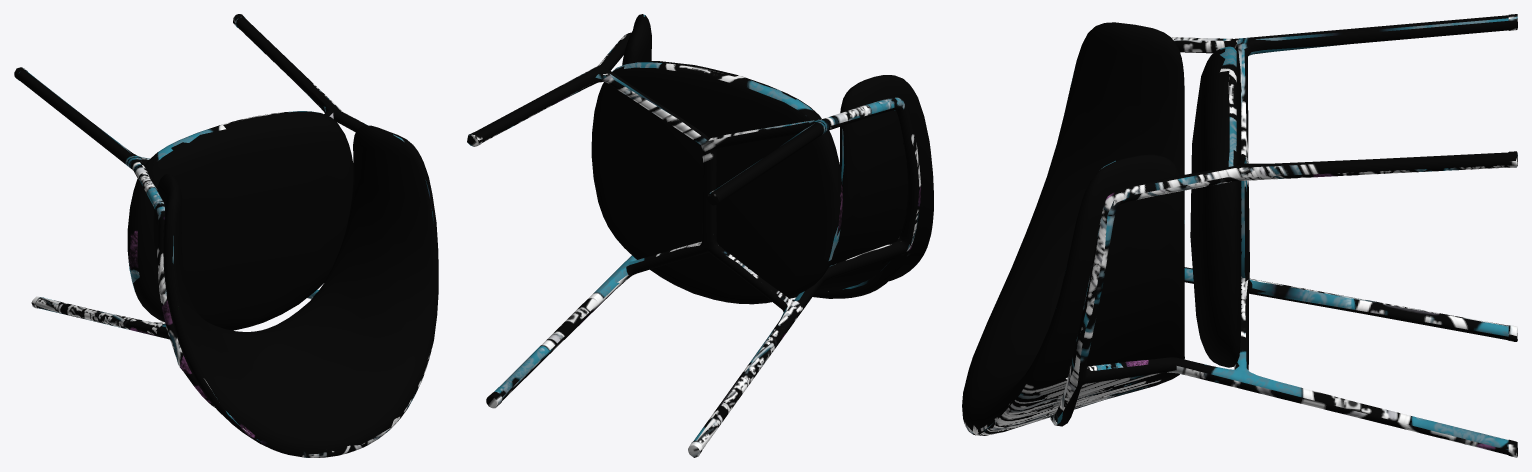
3 views of the same model, side by side, from view 1: azimuth 30°, elevation 25°; view 2: azimuth 150°, elevation 25°; view 3: azimuth 270°, elevation 25° (orthographic). The views are drawn at different scales.
Size of the model in its own units: 0.554 by 0.5121 by 0.77.
